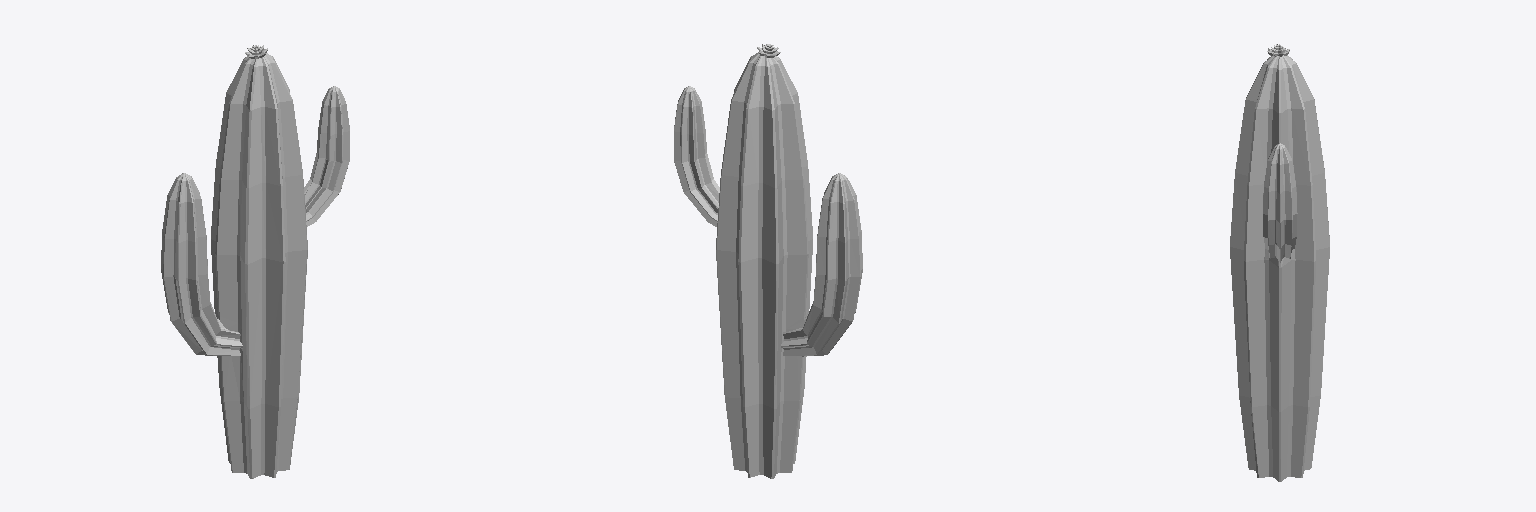
The model's file is cactus_lungo_tmp.obj.
3 renders of one model, left to right at view 1: azimuth 30°, elevation 25°; view 2: azimuth 150°, elevation 25°; view 3: azimuth 270°, elevation 25°, orthographic.
Visible parts, largest first — view 1: retopo_cactus_lungo; view 2: retopo_cactus_lungo; view 3: retopo_cactus_lungo.
Part boxes in pixels (x1,y1,x2,y2): retopo_cactus_lungo: (161,45,349,478); retopo_cactus_lungo: (674,44,862,478); retopo_cactus_lungo: (1230,44,1329,481).
Bounding box in the file's own units: 28.09 × 61.22 × 13.2.